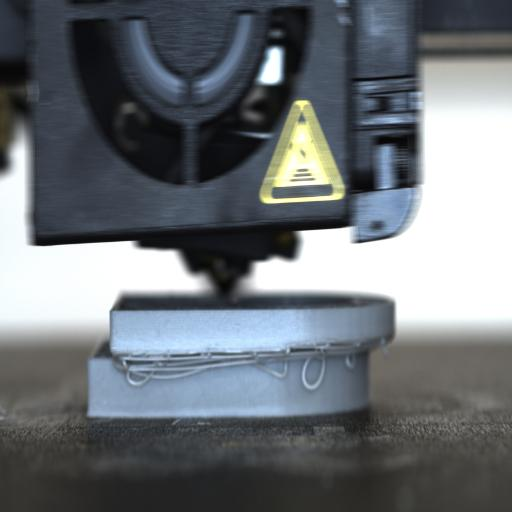layer_shift: (87, 338, 396, 362)
